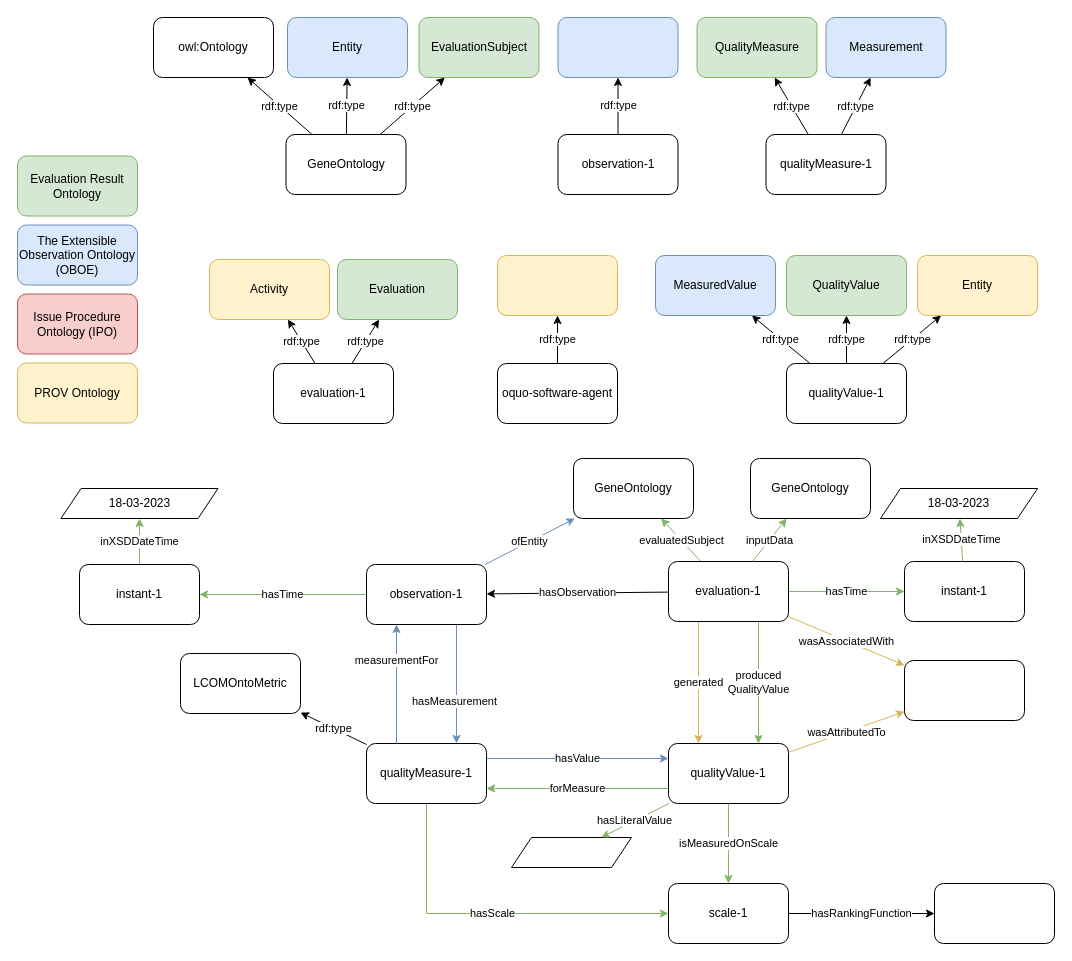
The diagram is 1072 pixels wide and 961 high, and some of its shapes have lost their labels. The shapes that lost their labels are listed below. From the top down, each one's centre as x and y in pixels, then its label:
the point at 617,47: Observation
the point at 557,285: Agent
the point at 964,690: oquare-software-agent
the point at 571,852: 5^^xsd:integer
the point at 994,913: LowerBest
